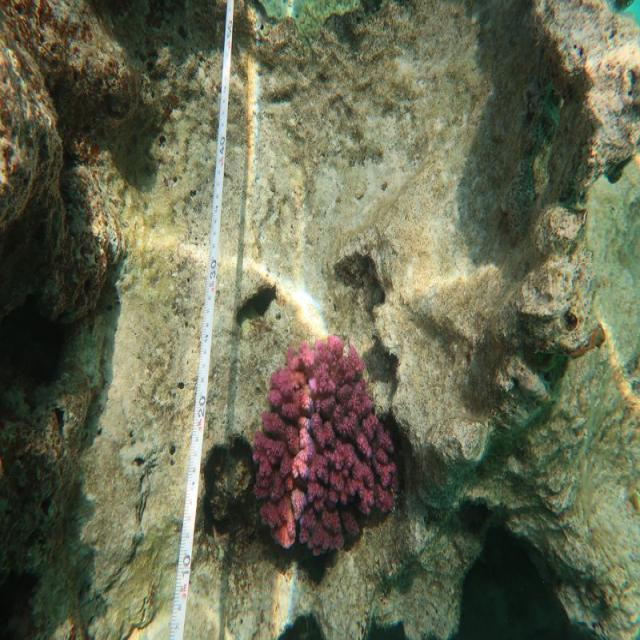Healthy Coral: (252, 332, 407, 574)
